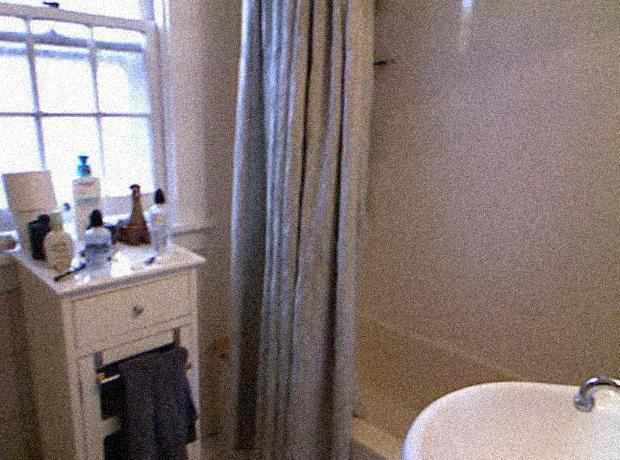Lavamanos: (401, 361, 619, 458)
